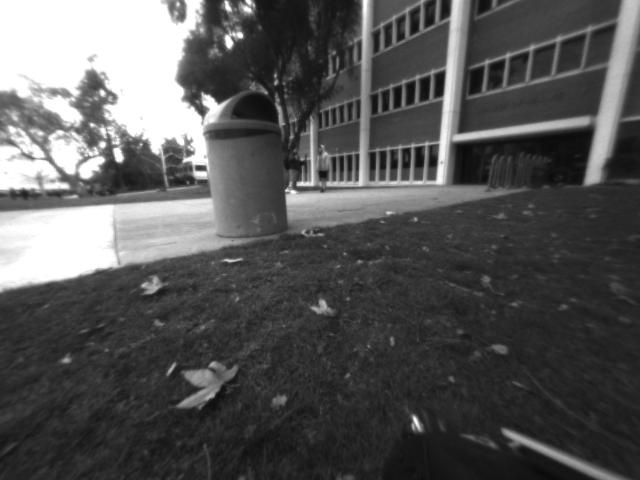trashcan: (195, 84, 298, 244)
